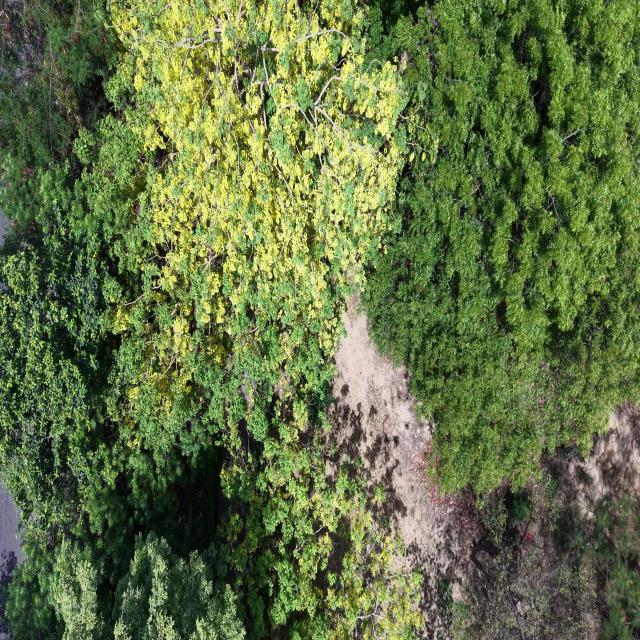DRY_AREA: (329, 299, 479, 639), (329, 301, 473, 639), (329, 313, 471, 638), (329, 313, 468, 638), (466, 403, 639, 639), (551, 403, 639, 530), (560, 403, 639, 517), (584, 403, 639, 501), (0, 484, 22, 588), (0, 486, 22, 588), (0, 211, 9, 246)
VEGETATION_TREE: (0, 0, 639, 639), (0, 0, 420, 637), (102, 2, 401, 636), (365, 0, 639, 494), (453, 456, 639, 639), (0, 0, 112, 226), (10, 534, 244, 639), (453, 470, 595, 639), (113, 535, 244, 639), (594, 496, 639, 639)
